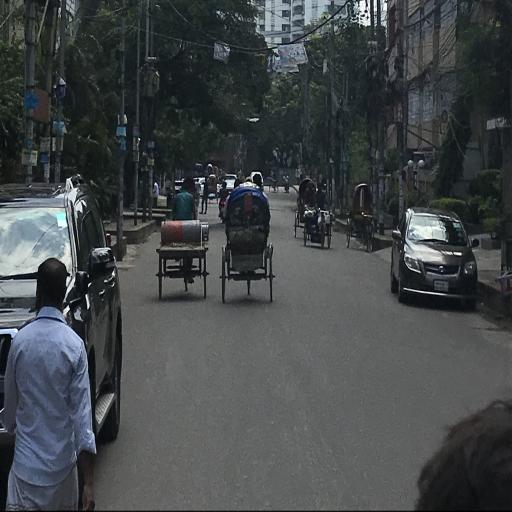car: (385, 204, 480, 313)
motorbike: (220, 184, 229, 225), (284, 173, 291, 194)
rickshaw: (221, 183, 274, 301), (348, 185, 376, 250), (295, 178, 316, 235), (187, 179, 200, 219), (209, 176, 219, 203), (270, 170, 280, 193)
suv: (1, 179, 120, 473)
wheelbarrow: (153, 242, 216, 302)
